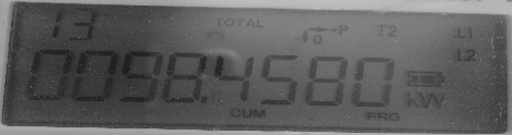0: (72, 46, 118, 111), (353, 52, 395, 114), (25, 43, 68, 101)
4: (208, 46, 253, 105)
5: (258, 46, 302, 111)
8: (163, 47, 210, 109), (300, 51, 348, 111)
9: (115, 43, 164, 116)
d: (198, 98, 213, 111)
